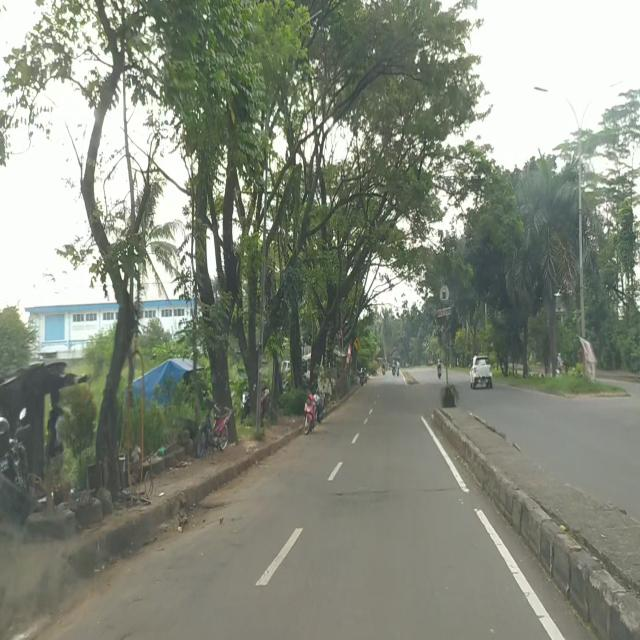Sewer Cover: (329, 486, 456, 499)
